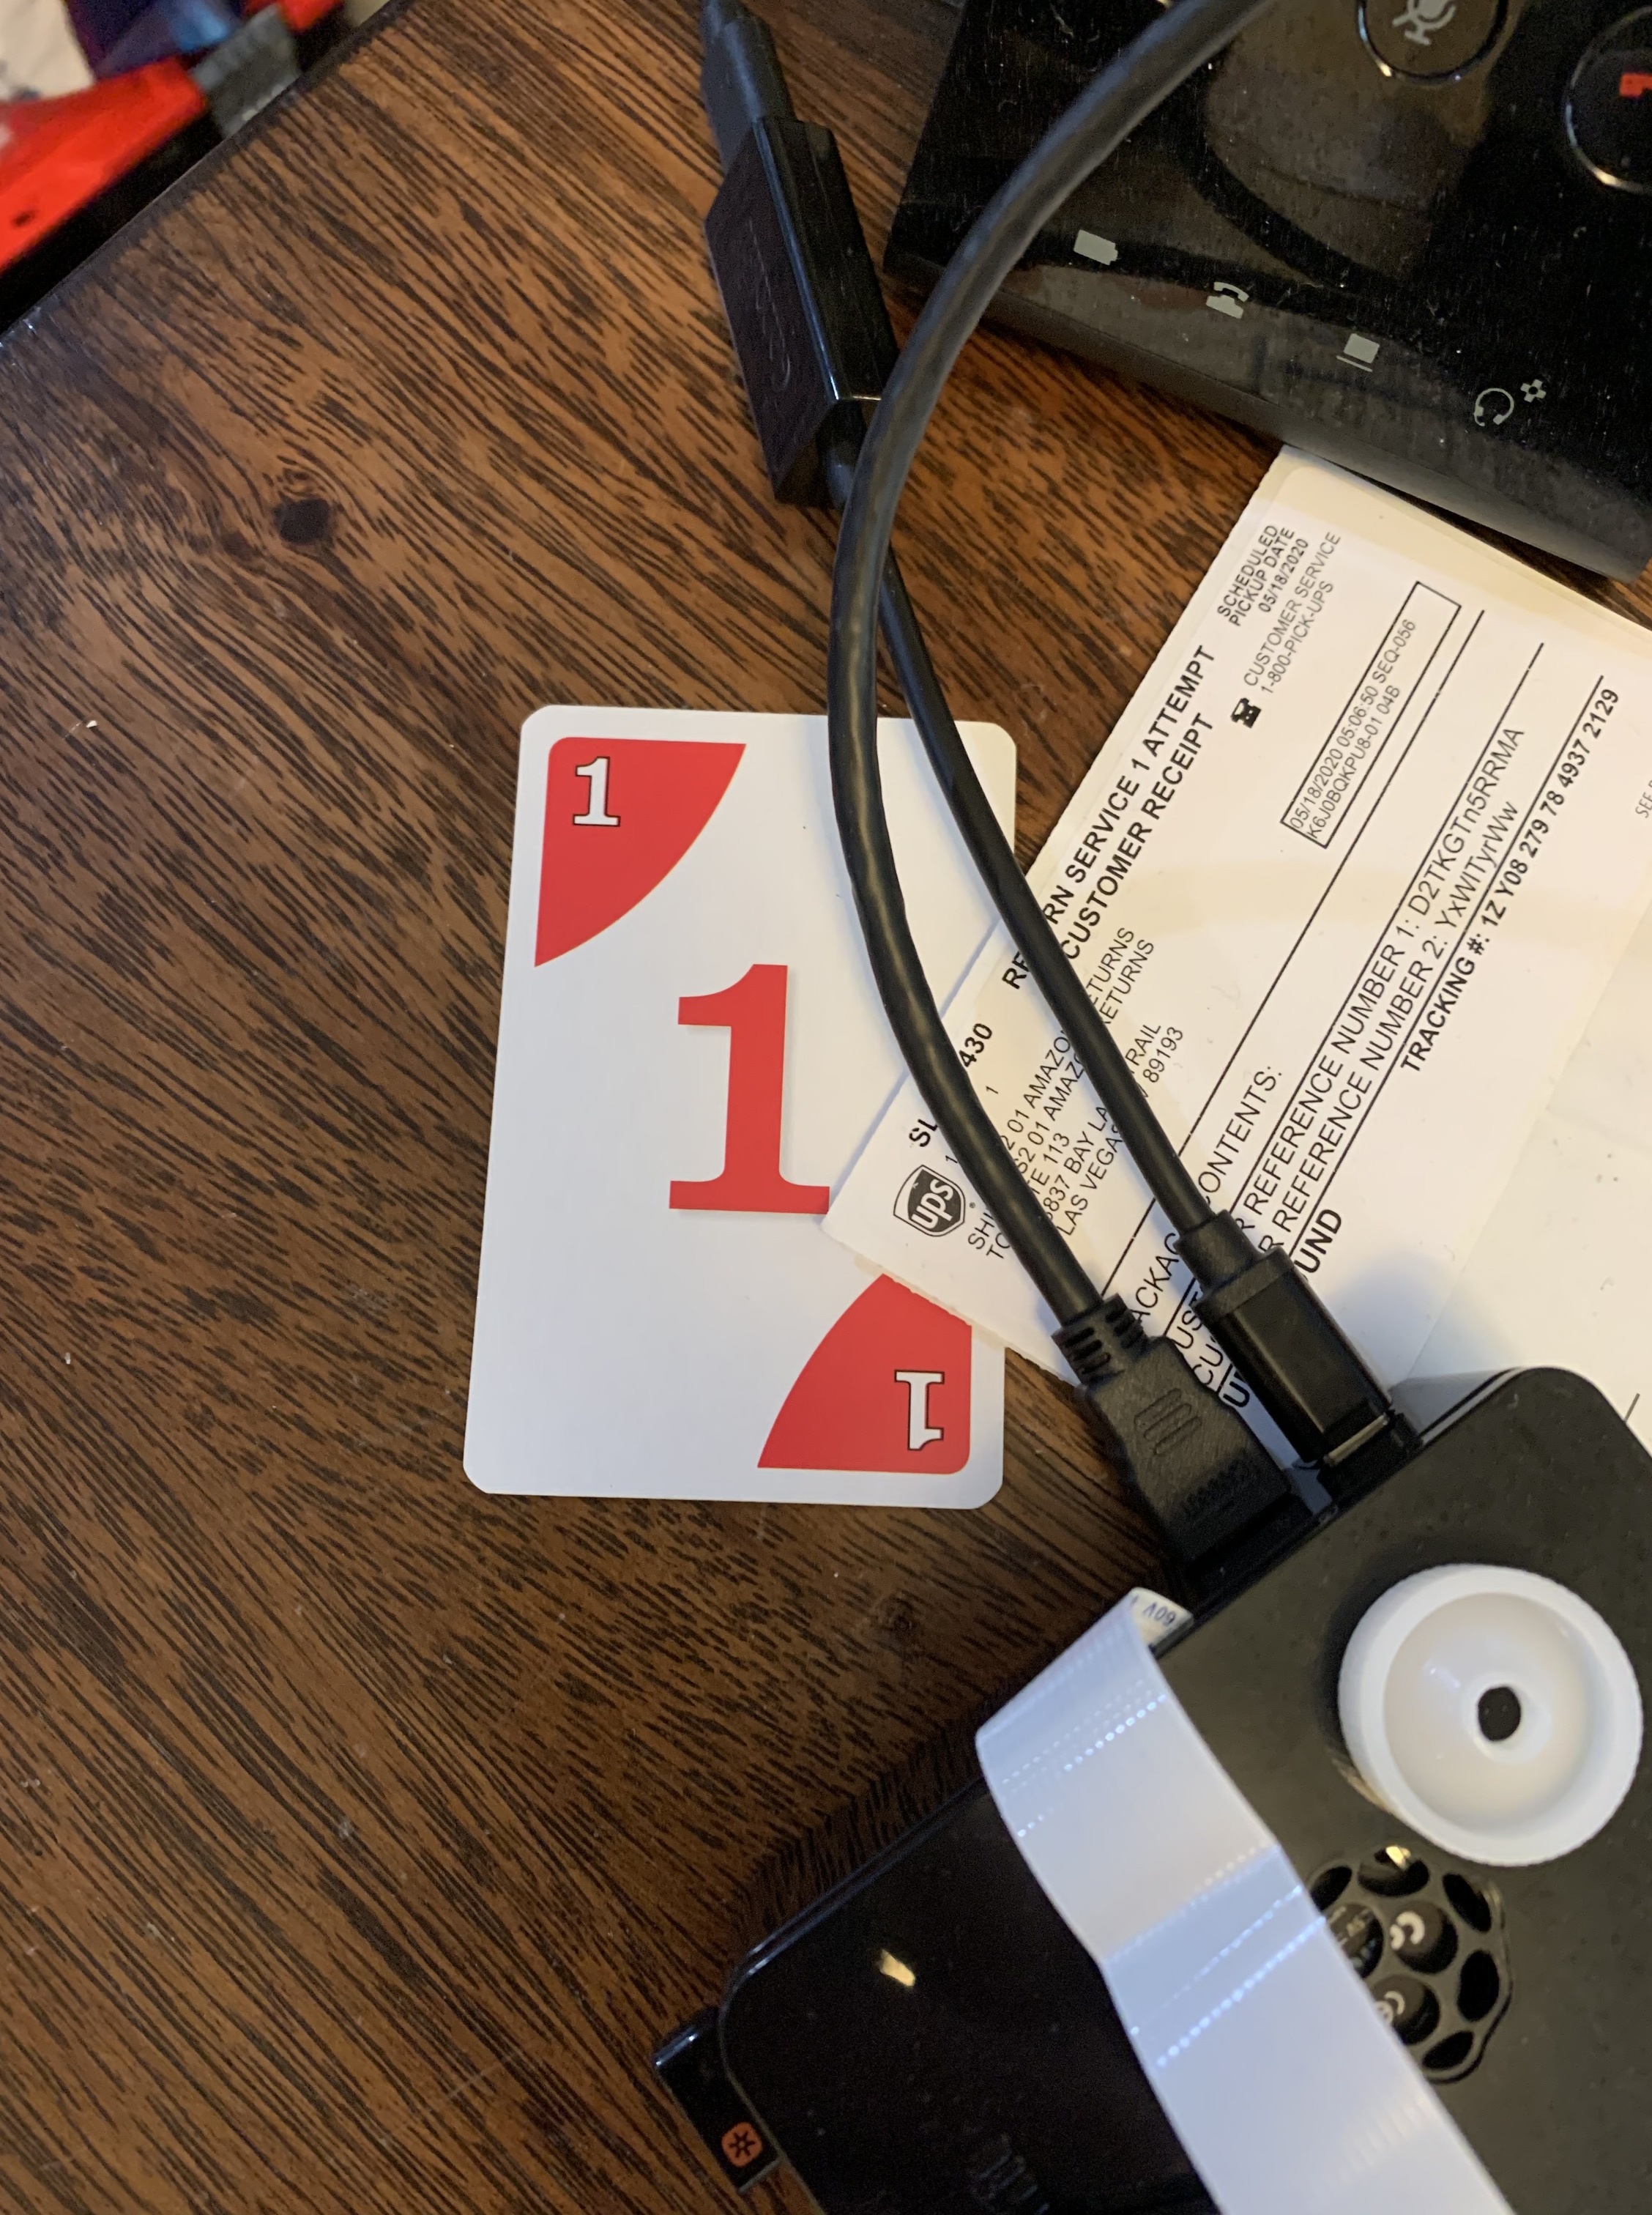one: (451, 686, 1027, 1526)
